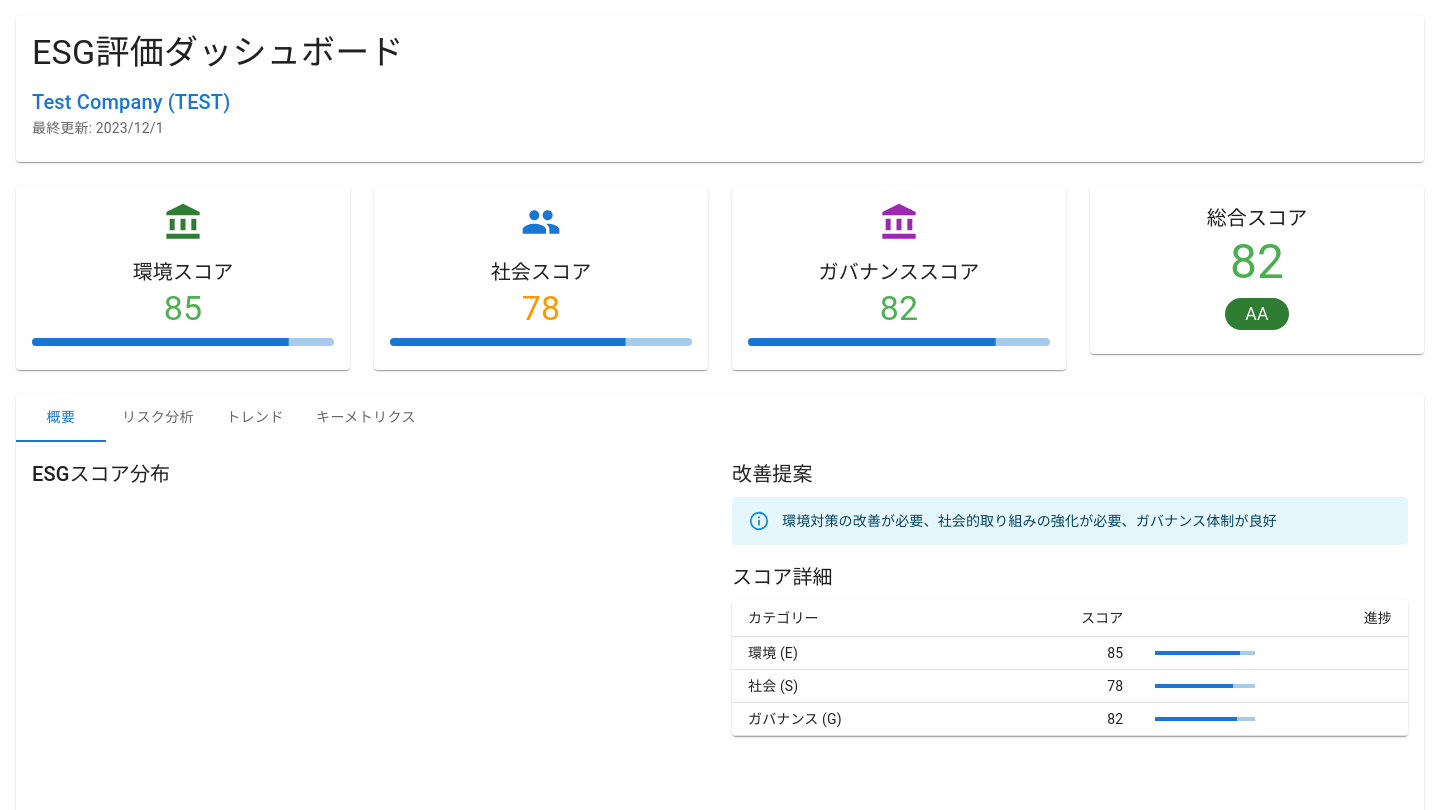
Test case: ESGDashboard › should display risk assessment correctly
Expected: the heading "ESG評価ダッシュボード" is shown, left=32, top=32, right=404, bottom=72
Note: Switch to risk analysis tab
Click the tab "リスク分析" at (158, 418), box left=106, top=394, right=210, bottom=442
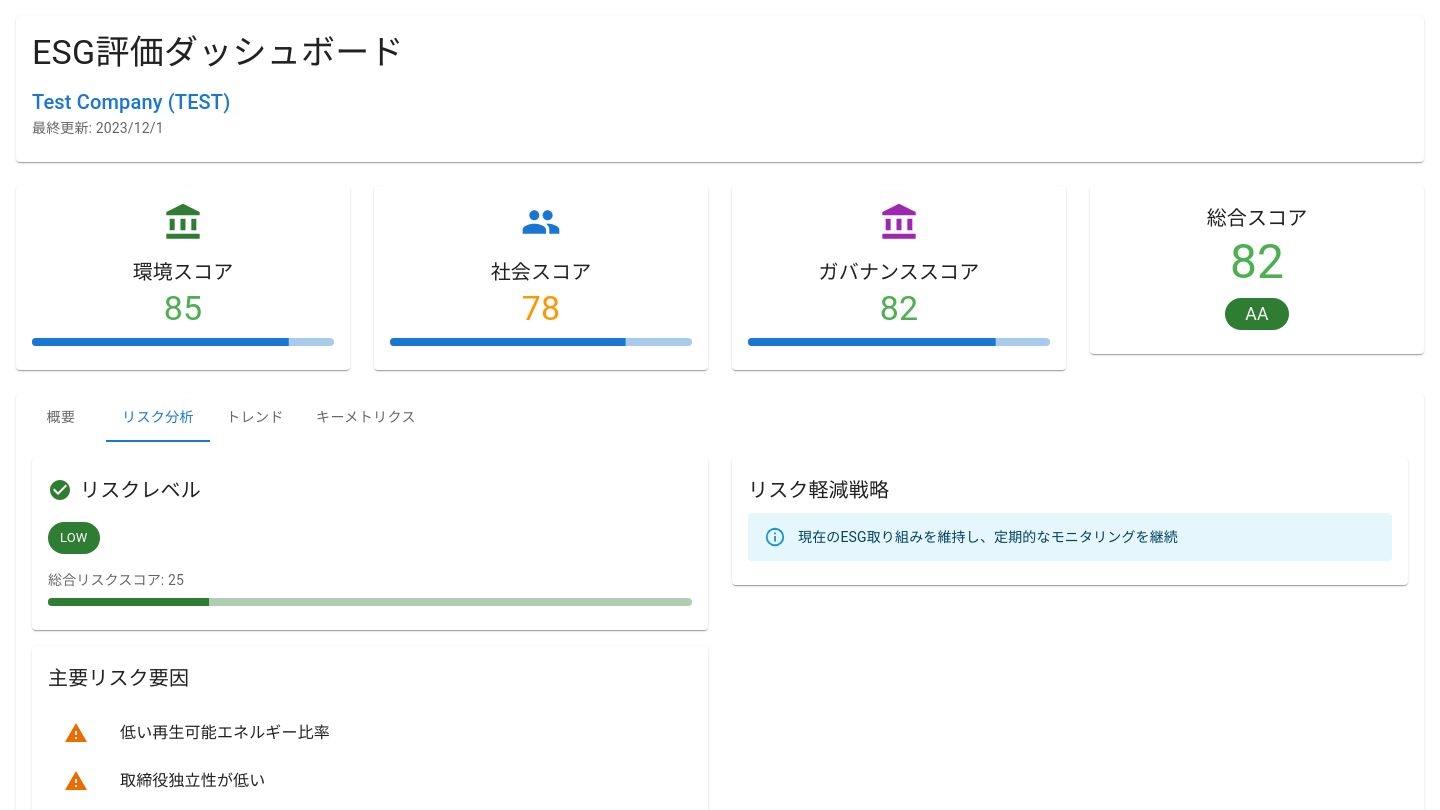
Expected: the text "LOW" is shown, left=60, top=530, right=88, bottom=545
Expected: the text "総合リスクスコア: 25" is shown, left=48, top=572, right=184, bottom=588
Expected: the text "低い再生可能エネルギー比率" is shown, left=120, top=723, right=330, bottom=742
